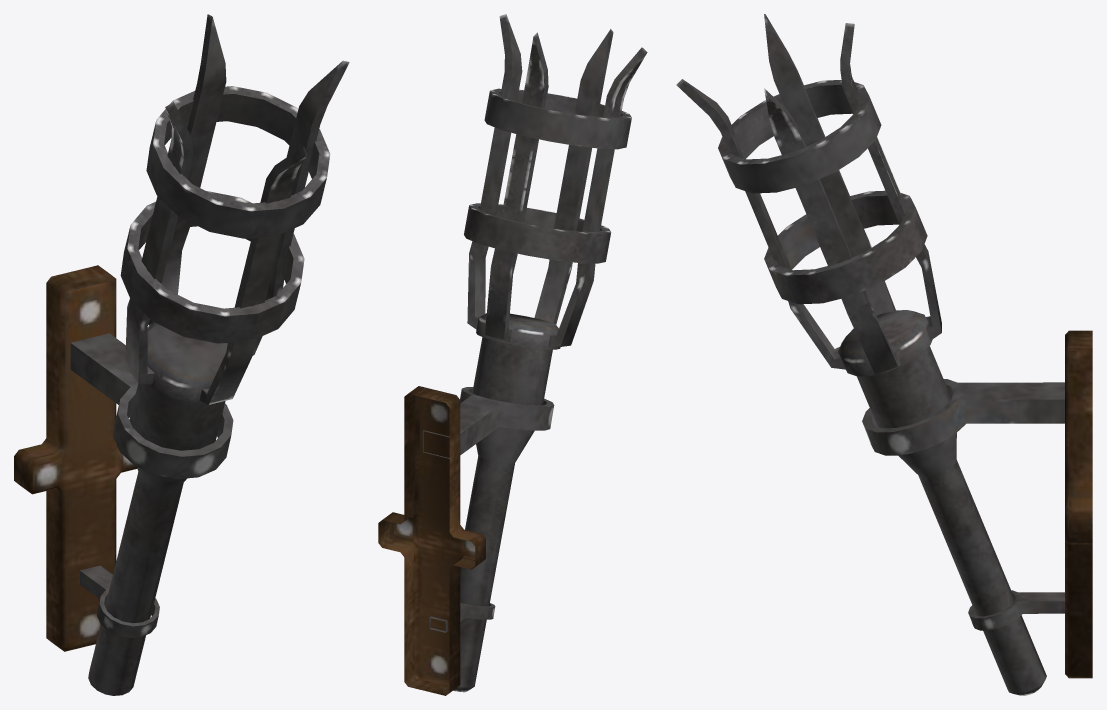
File: torch_01.glb
3 renders of one model, left to right at view 1: azimuth 30°, elevation 25°; view 2: azimuth 150°, elevation 25°; view 3: azimuth 270°, elevation 25°, orthographic. The views are drawn at different scales.
Parts seen in each view (by area): view 1: torch_01; view 2: torch_01; view 3: torch_01.
Part boxes in pixels (x1,y1,x2,y2): torch_01: (14, 14, 349, 695); torch_01: (378, 14, 647, 695); torch_01: (676, 14, 1092, 695).
Bounding box in the file's own units: 0.1944 × 0.7533 × 0.4242.
Materials: 1 (1 with a texture image).
